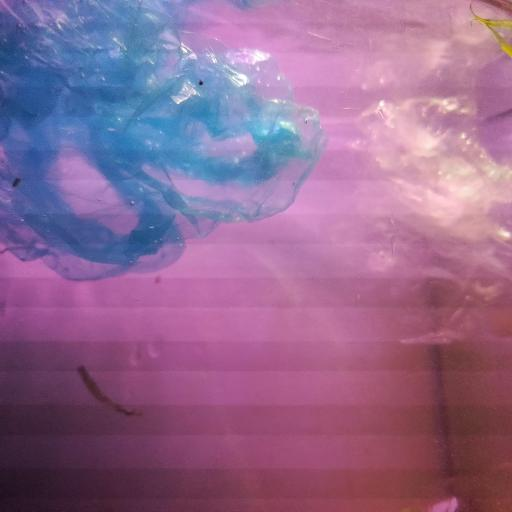plastic_bag: (0, 0, 323, 283), (245, 88, 512, 356)
